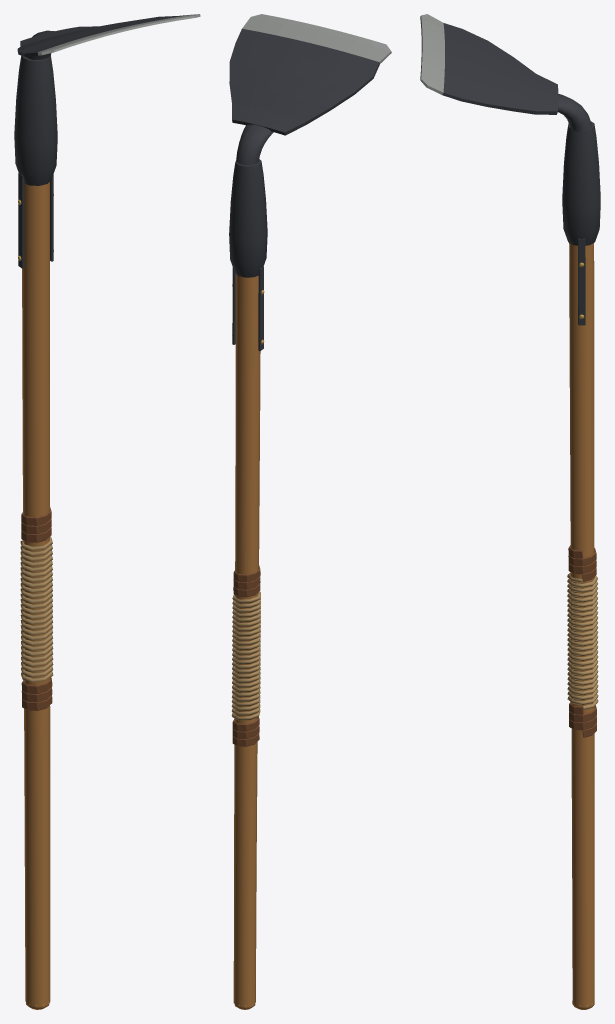
Rendered from tool_hoe.fbx.
3 renders of one model, left to right at view 1: azimuth 30°, elevation 25°; view 2: azimuth 150°, elevation 25°; view 3: azimuth 270°, elevation 25°, orthographic. The views are drawn at different scales.
Parts seen in each view (by area): view 1: Tool_Hoe_Shaft, Tool_Hoe_Neck, Tool_Hoe_Wrap, Tool_Hoe_Blade; view 2: Tool_Hoe_Shaft, Tool_Hoe_Blade, Tool_Hoe_Neck, Tool_Hoe_Wrap; view 3: Tool_Hoe_Shaft, Tool_Hoe_Blade, Tool_Hoe_Neck, Tool_Hoe_Wrap.
Part boxes in pixels (bbox=[...]): Tool_Hoe_Shaft: bbox=[22, 182, 50, 1009]; Tool_Hoe_Neck: bbox=[14, 30, 57, 268]; Tool_Hoe_Wrap: bbox=[20, 507, 53, 710]; Tool_Hoe_Blade: bbox=[17, 14, 200, 56]; Tool_Hoe_Shaft: bbox=[233, 274, 260, 1009]; Tool_Hoe_Blade: bbox=[229, 14, 391, 135]; Tool_Hoe_Neck: bbox=[229, 124, 273, 351]; Tool_Hoe_Wrap: bbox=[231, 565, 260, 746]; Tool_Hoe_Shaft: bbox=[569, 243, 594, 1009]; Tool_Hoe_Blade: bbox=[420, 14, 558, 114]; Tool_Hoe_Neck: bbox=[558, 94, 600, 325]; Tool_Hoe_Wrap: bbox=[567, 545, 598, 737].
Size of the model in its own units: 26.8 by 167 by 28.4.
